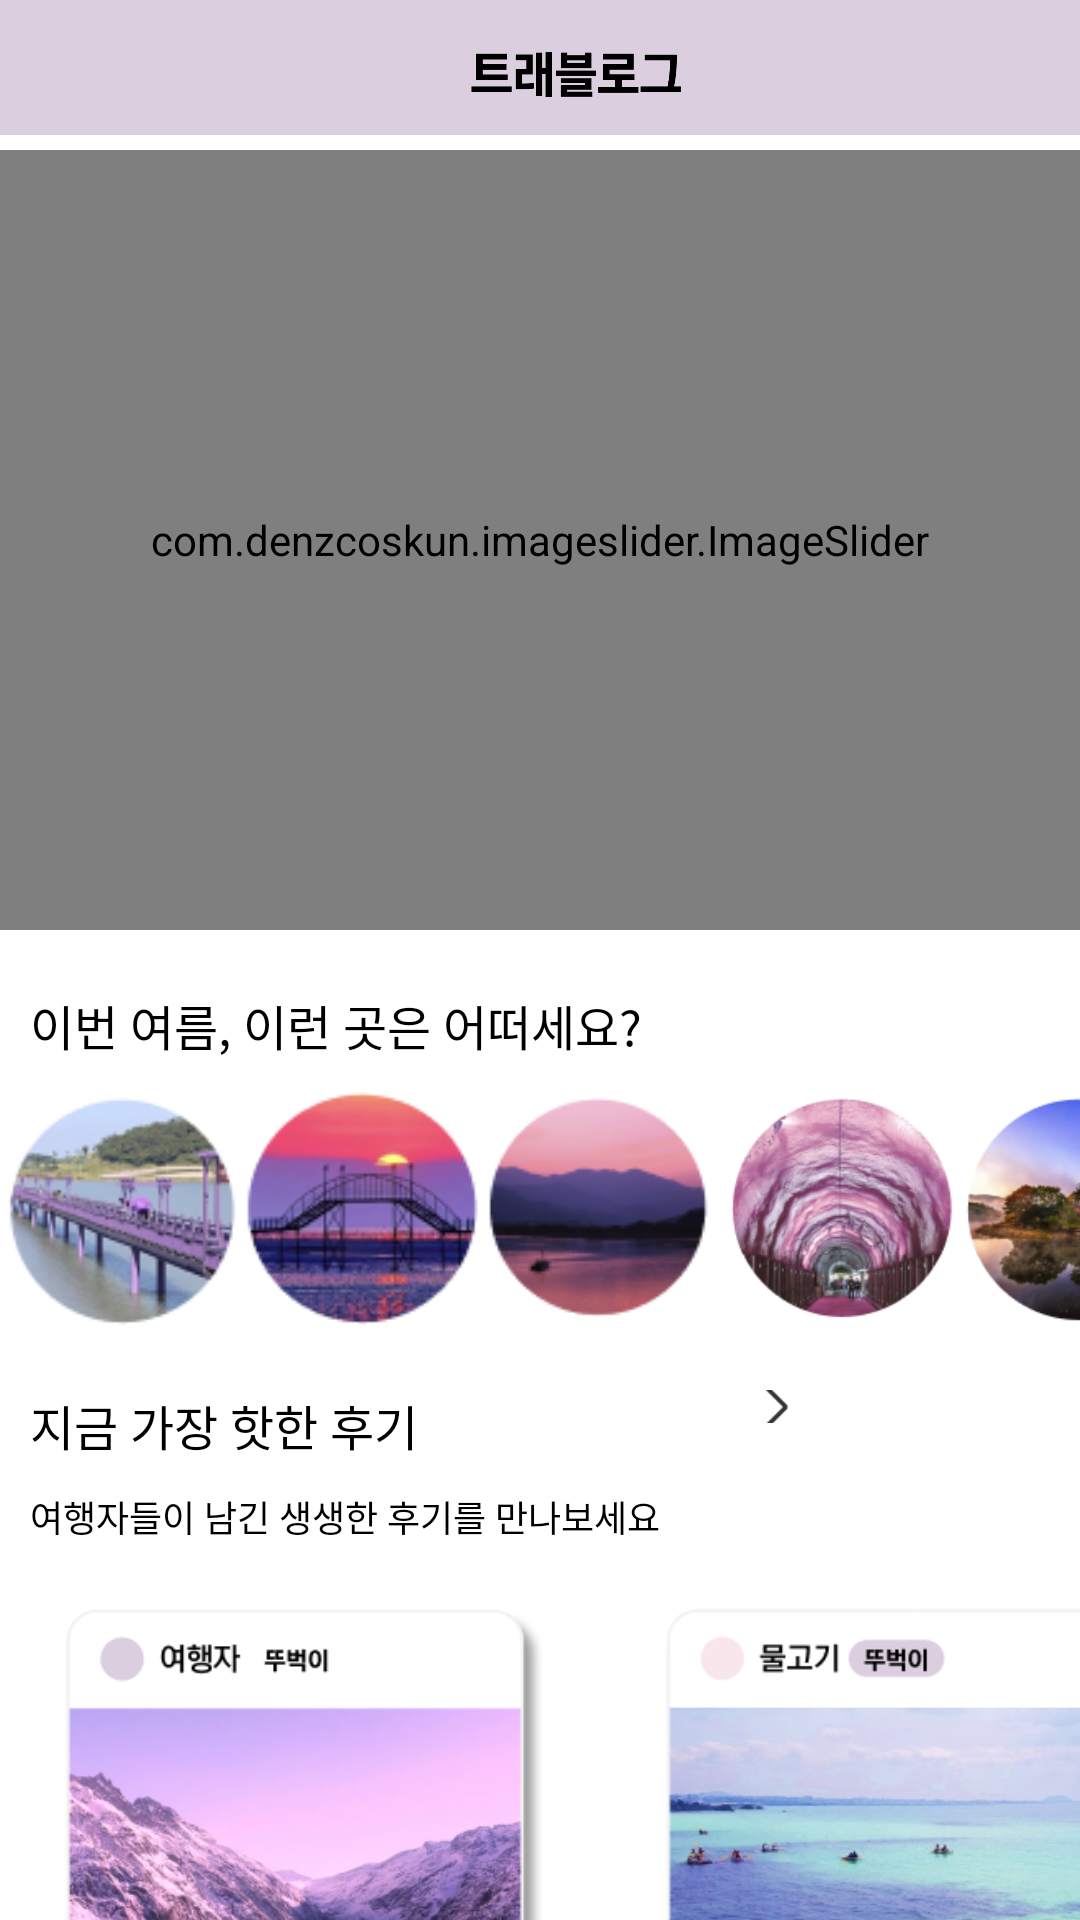

Where to tap for icons on this 1080*1920 app screen, as [x,y]:
more: [777,1406]
